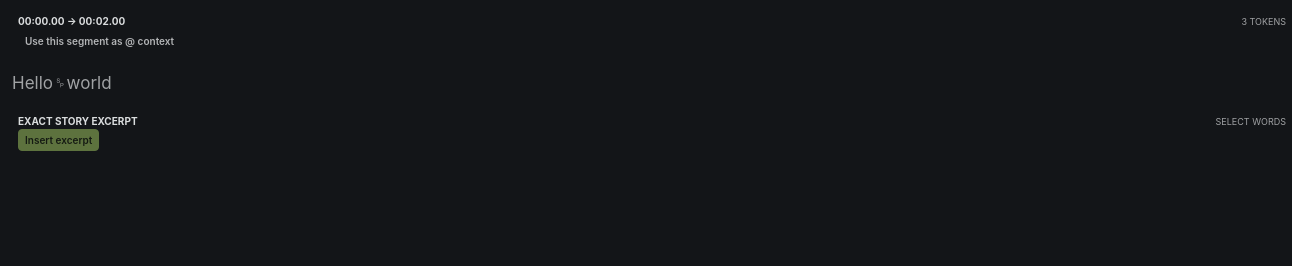
Test: CreatorTranscriptExcerpt › commits exact immutable evidence and byte-replays an ambiguous insertion
Click the button with aria-label "Select token 1 · Hello" at (32, 83), box top-left (12, 67), bottom-right (53, 100)
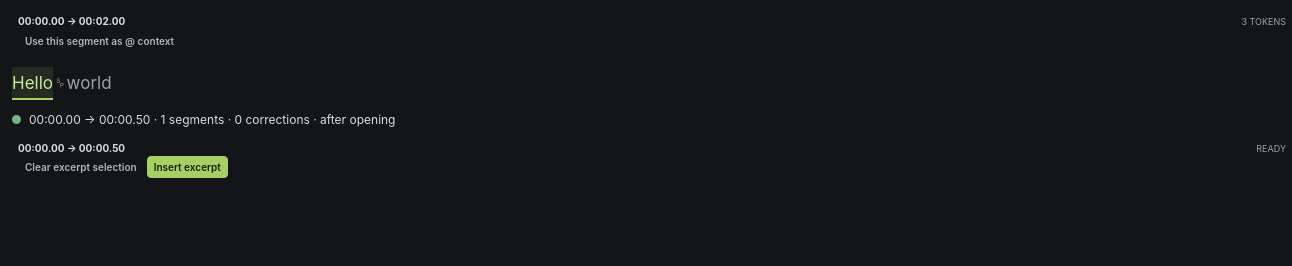
Click the button with aria-label "Select token 3 · world" at (89, 83), box top-left (67, 67), bottom-right (112, 100)
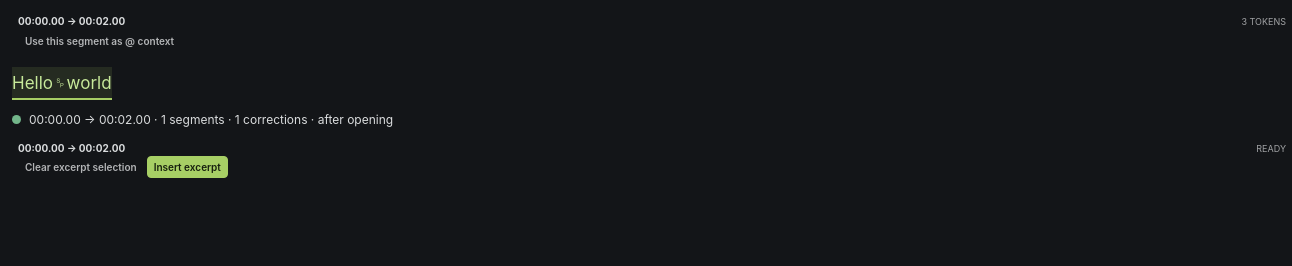
Expected: the text "00:00.00 → 00:02.00 · 1 segments · 1 corrections · after opening" is shown, top-left (29, 112), bottom-right (393, 127)
Click the button "Insert excerpt" at (187, 168), box top-left (147, 156), bottom-right (228, 178)
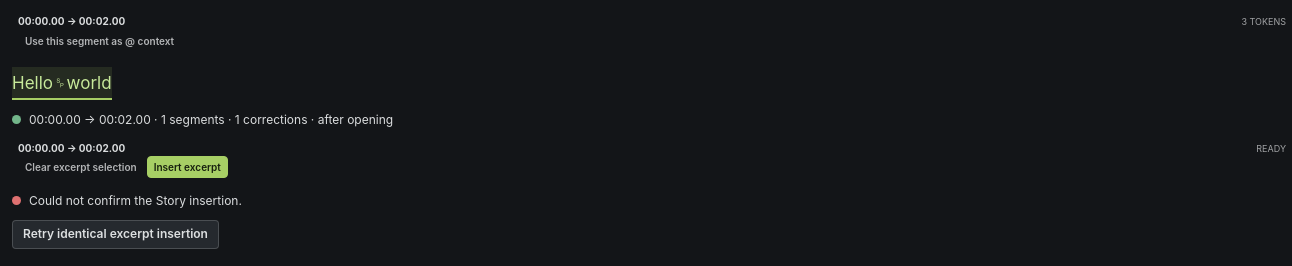
Expected: the text "Could not confirm the Story insertion." is shown, top-left (29, 194), bottom-right (242, 208)
Click the button "Retry identical excerpt insertion" at (116, 235), box top-left (12, 220), bottom-right (219, 249)
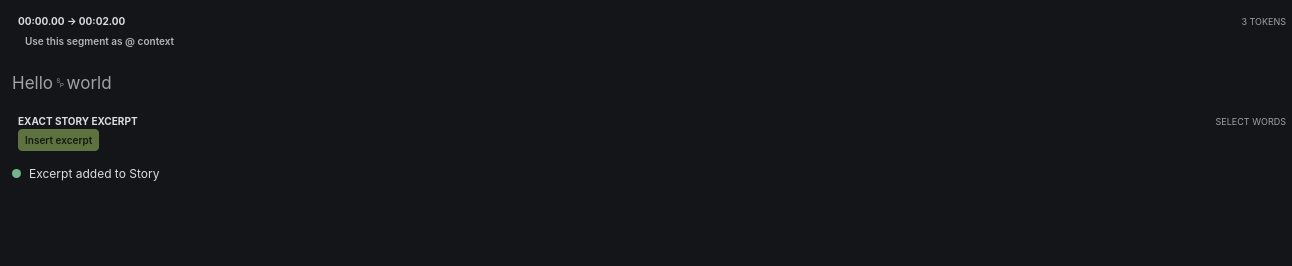
Expected: the text "Excerpt added to Story" is shown, top-left (29, 166), bottom-right (159, 182)
